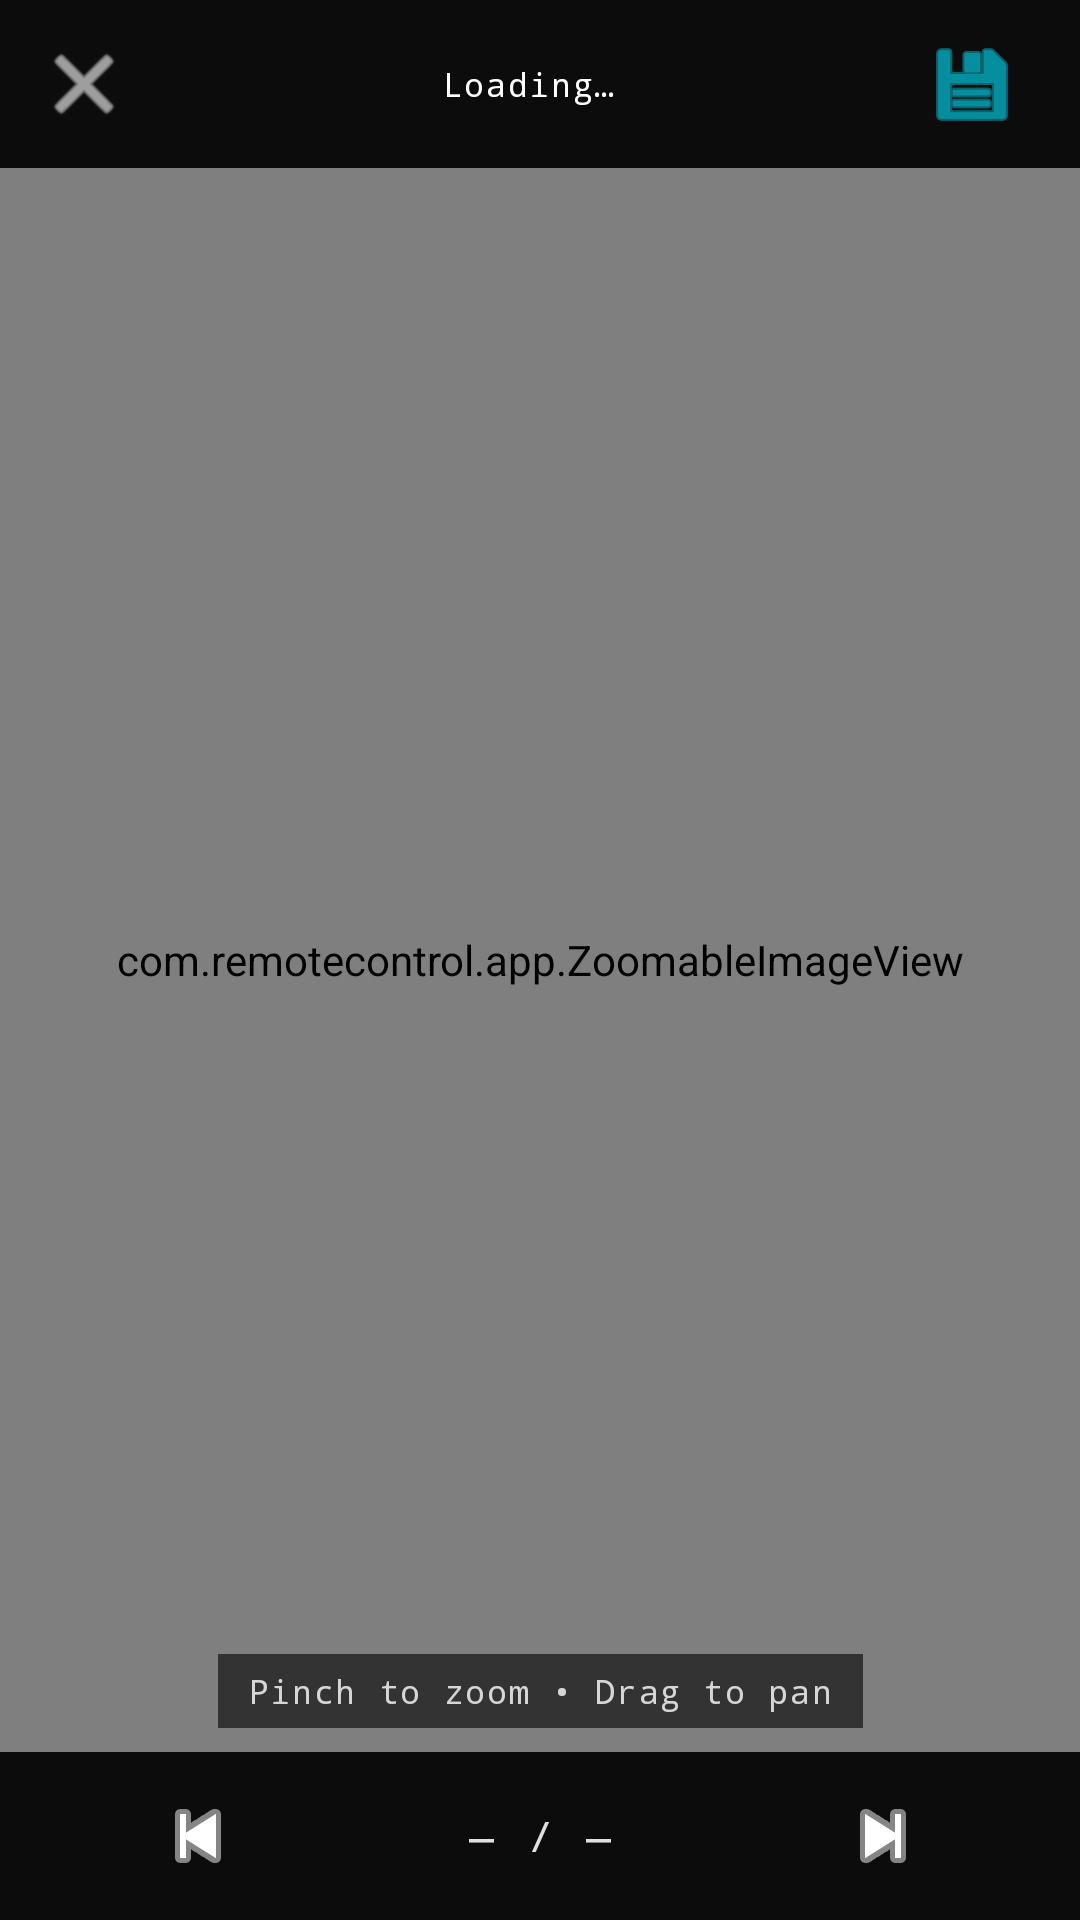

Screen size 1080px x 1920px. Icon name, then its box in pixels as rect(x1, y1, x2, y2):
Close: rect(54, 54, 114, 114)
Next monitor: rect(860, 1809, 906, 1863)
Previous monitor: rect(175, 1809, 221, 1863)
Save to gallery: rect(936, 48, 1008, 121)
